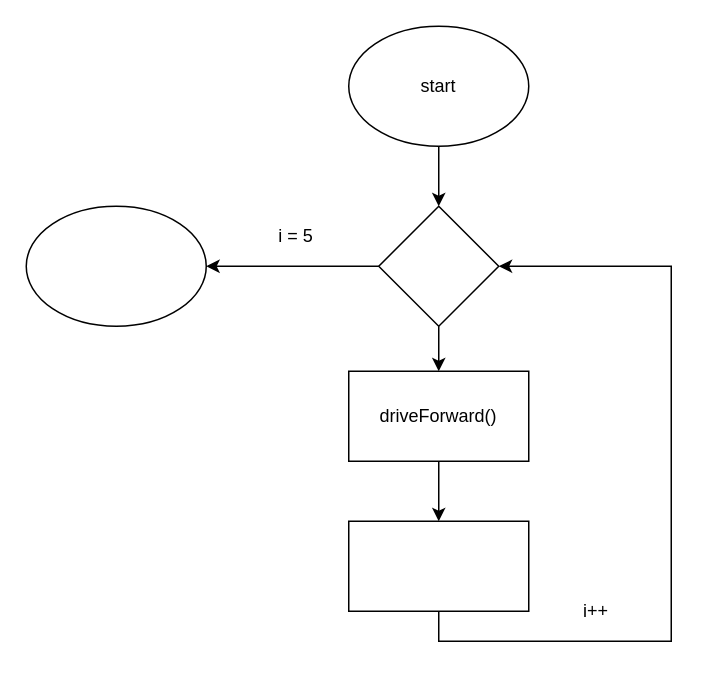
This 710x680 diagram has some shape labels left out. The shapes that lost their labels are listed below. From the top down, each one's centre as x and y in pixels, then its label:
At point (438, 265): "for loop".
At point (438, 565): "driveBackwards()".
